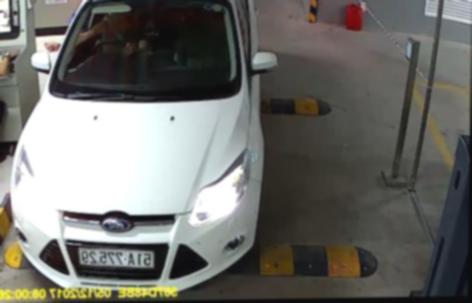License_Plate: (74, 242, 157, 271)
